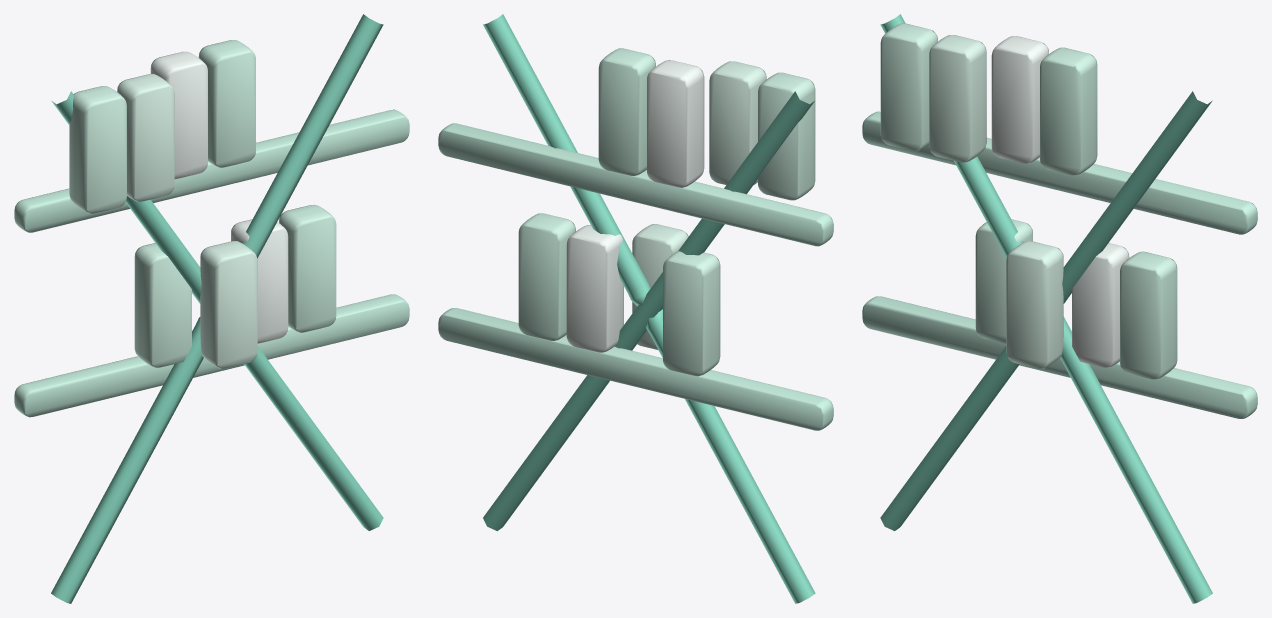
The model's file is decor_4_mint.glb.
3 renders of one model, left to right at view 1: azimuth 30°, elevation 25°; view 2: azimuth 150°, elevation 25°; view 3: azimuth 330°, elevation 25°, orthographic.
Parts seen in each view (by area): view 1: decor_4_mint; view 2: decor_4_mint; view 3: decor_4_mint.
Boxes of the visible parts, x1=… form: decor_4_mint: x1=14, y1=14, x2=409, y2=603; decor_4_mint: x1=438, y1=14, x2=833, y2=603; decor_4_mint: x1=862, y1=14, x2=1257, y2=603.
Size of the model in its own units: 9.65 by 12.24 by 1.5.
